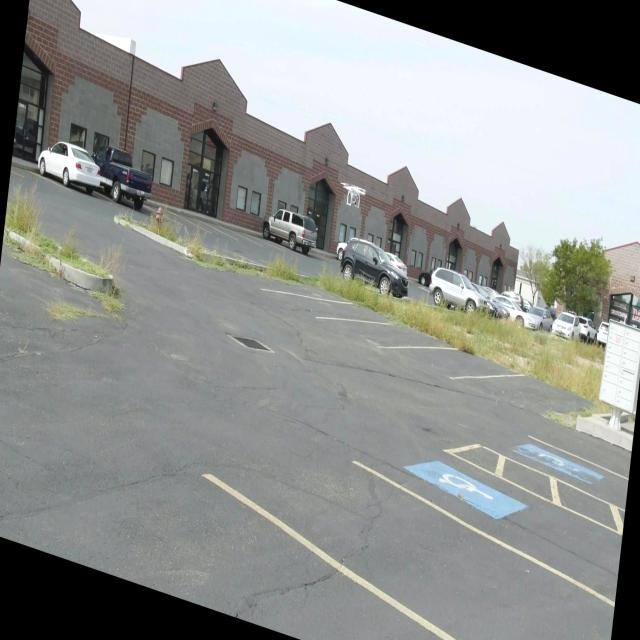drone: (336, 172, 370, 218)
